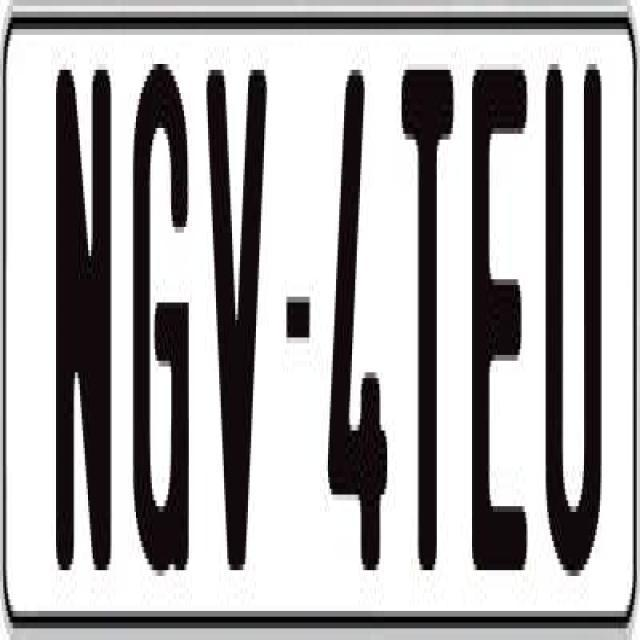4: (324, 64, 394, 594)
E: (472, 58, 528, 588)
G: (130, 58, 196, 599)
N: (56, 58, 112, 559)
T: (398, 70, 452, 606)
U: (546, 58, 608, 599)
V: (206, 58, 268, 570)
